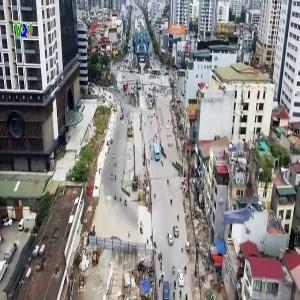drone: (206, 175, 275, 244)
